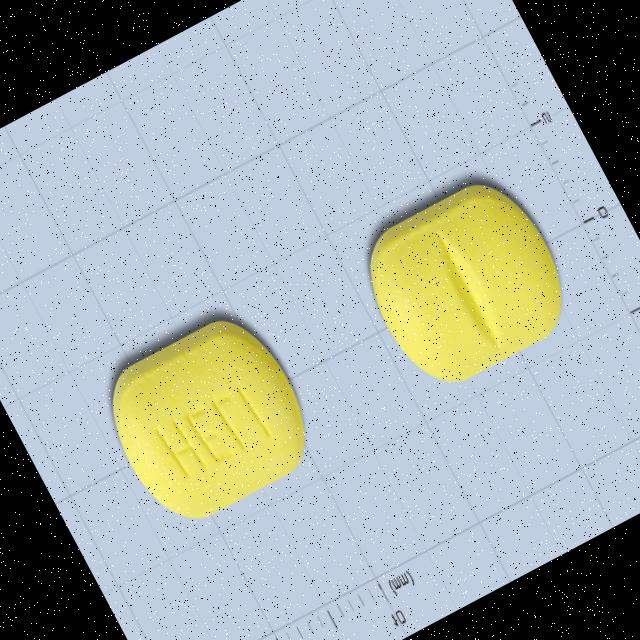Helico: (346, 164, 588, 403), (89, 300, 329, 537)
